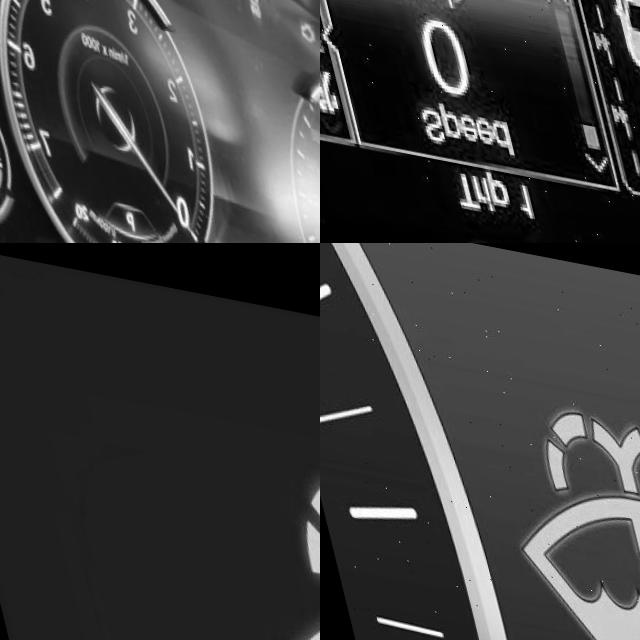Washer Fluid: (473, 388, 640, 640)
